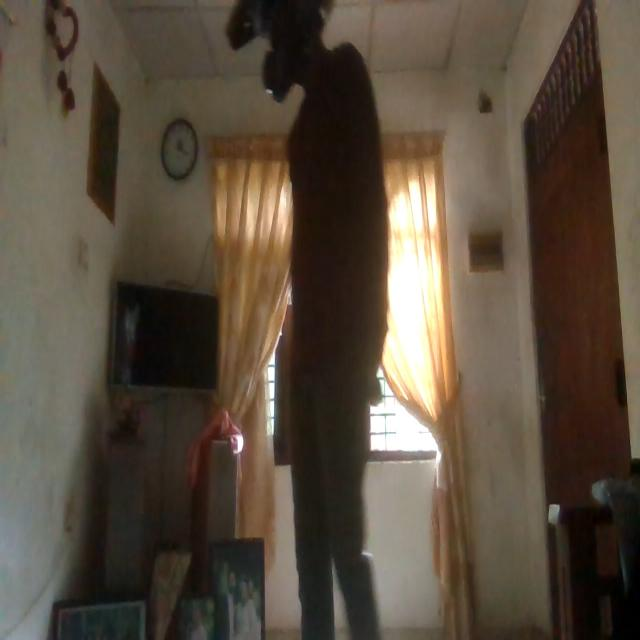Helmet_Wearer: (239, 0, 338, 97)
Person: (234, 0, 392, 640)
